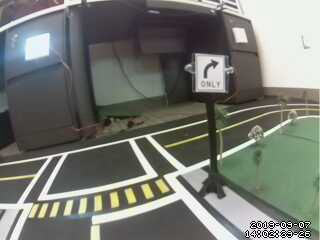Right_only_sign: (194, 53, 231, 97)
